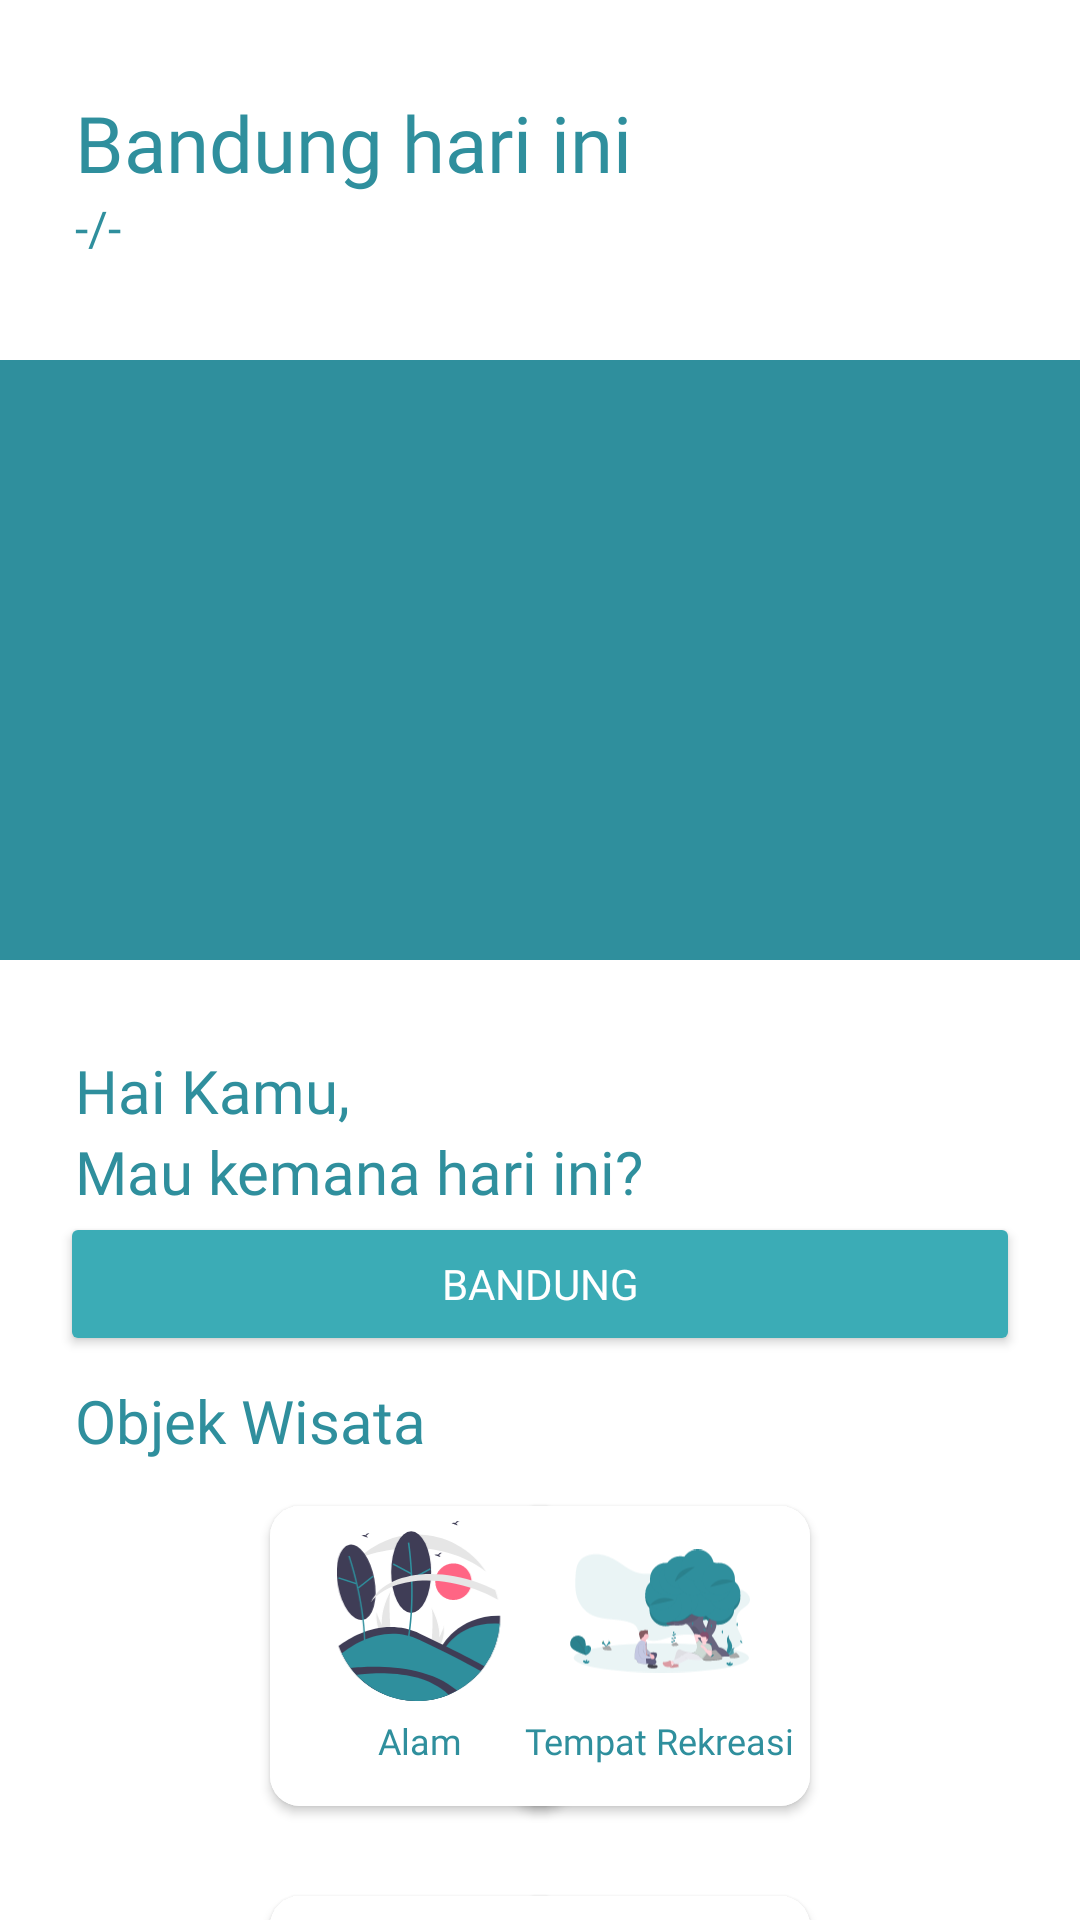

Named icons in this screenshot (1080px x 1920px) and their bounding boxes, (x1, y1, x2, y2):
undraw friendship: (570, 1549, 750, 1673)
